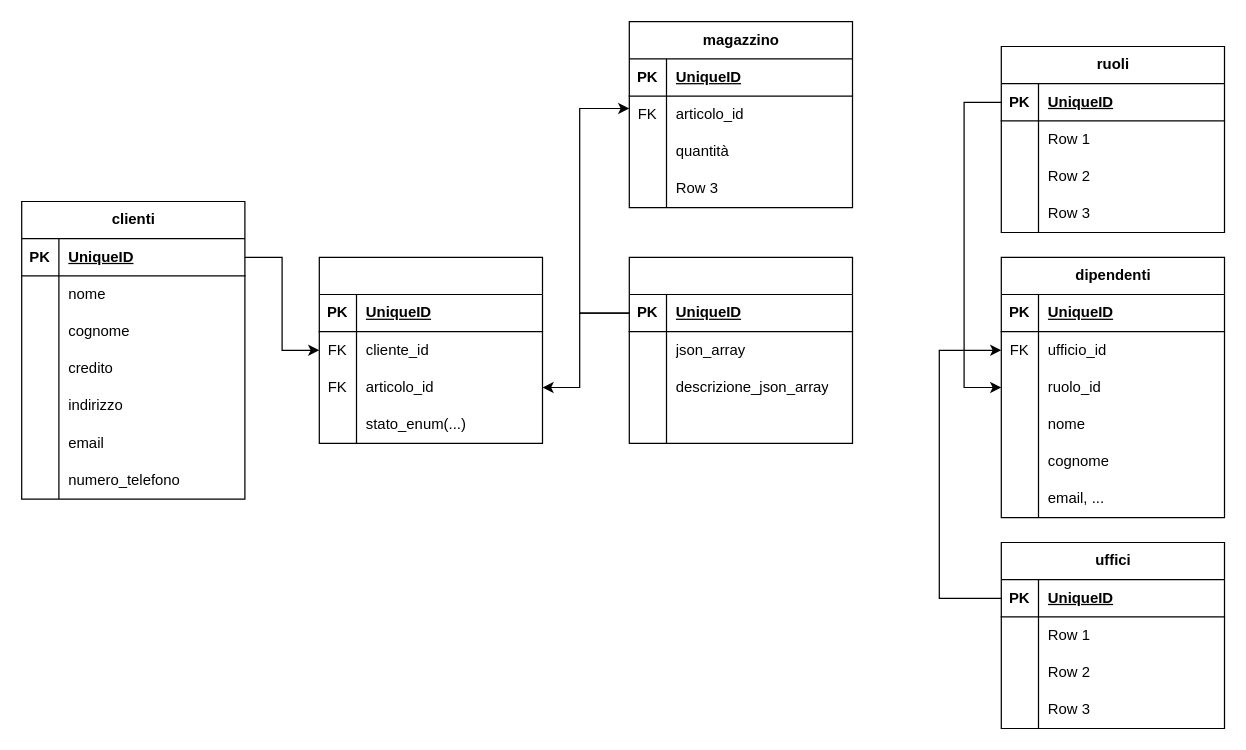
This 1246x750 diagram has some shape labels left out. The shapes that lost their labels are listed below. From the top down, each one's box as (x1, y1, x2, y2) in pixels, then its label:
(318, 256, 542, 443): ordini
(628, 256, 852, 443): articoli
